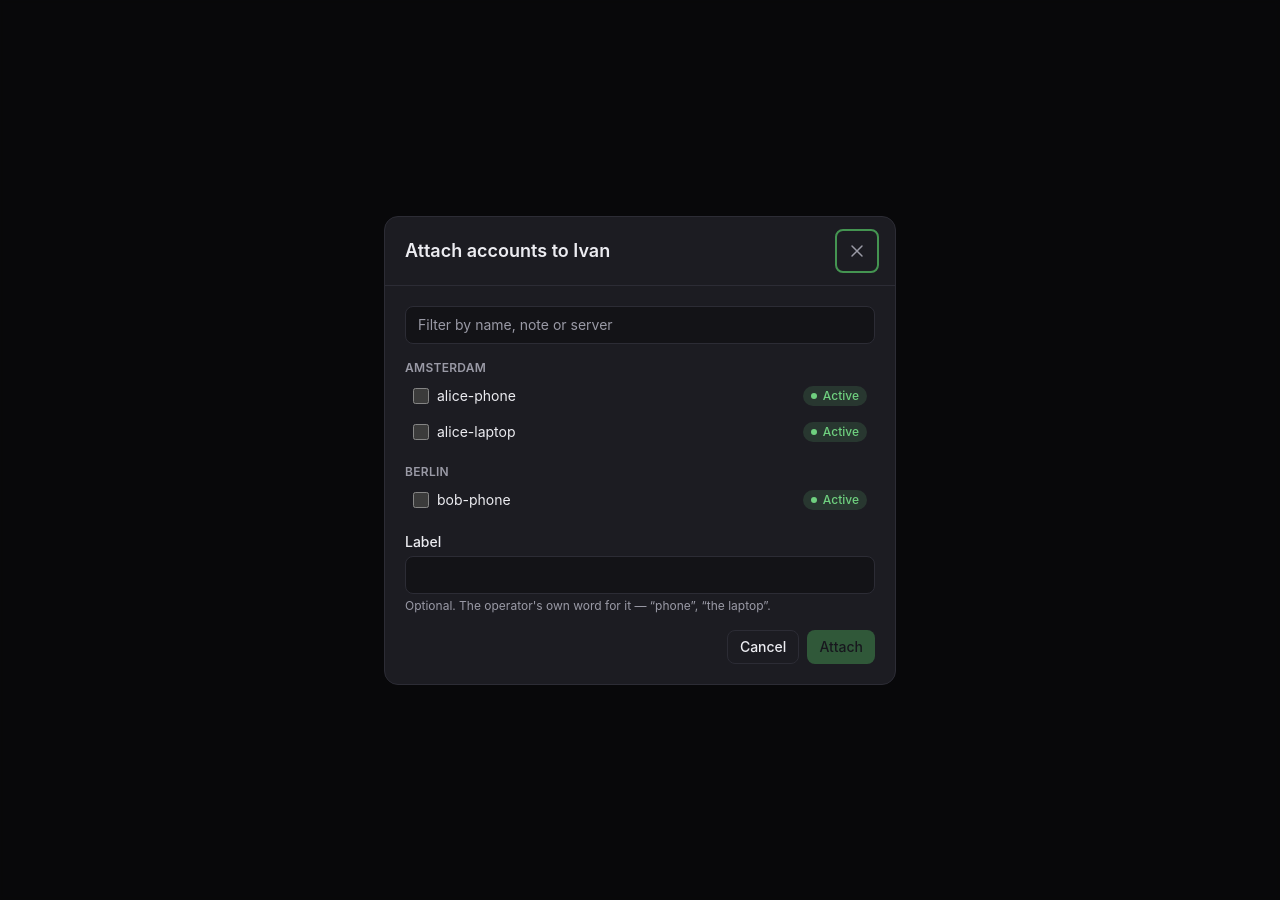
Scenario: AttachEntryDialog › deselects on a second click
Expected: the text "alice-phone" is shown, [437,386,516,404]
Click the checkbox labelled "alice-phone Active". click: (421, 396)
box: [413,388,429,404]
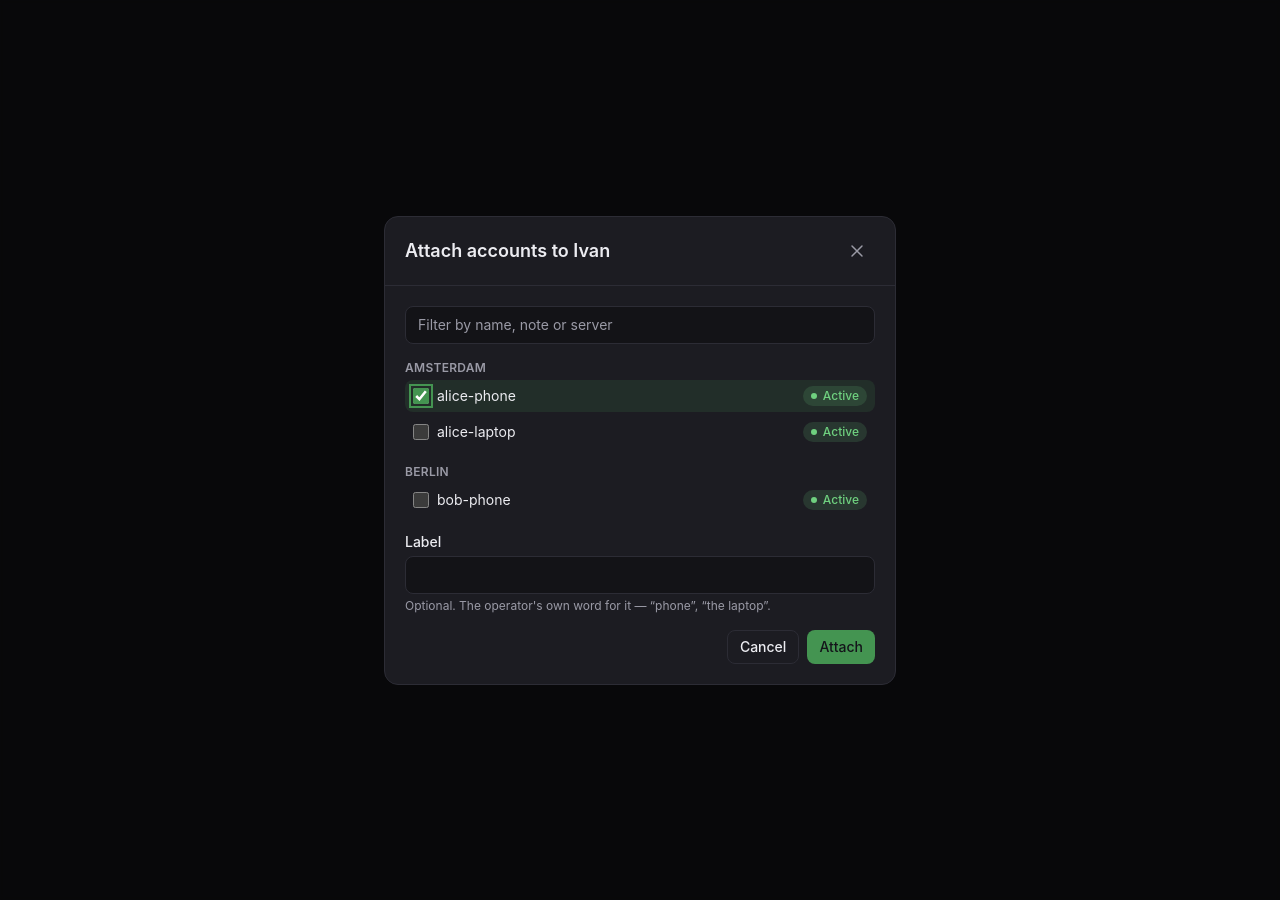
Expected: the button "Attach" is shown, [807,630,875,664]
Click the checkbox labelled "alice-phone Active". click: (421, 396)
box: [413,388,429,404]
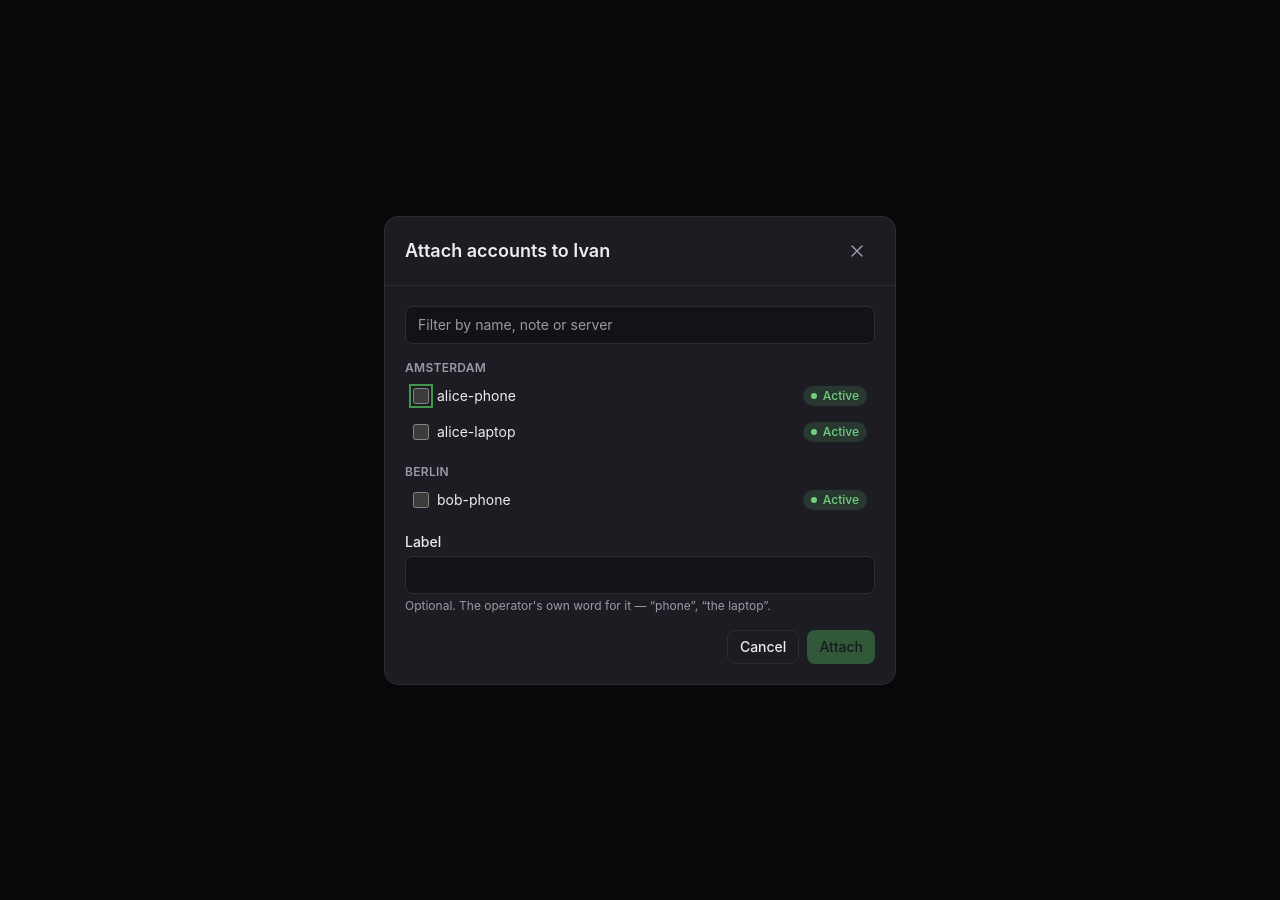
Now the button "Attach" is disabled, box [807,630,875,664]
